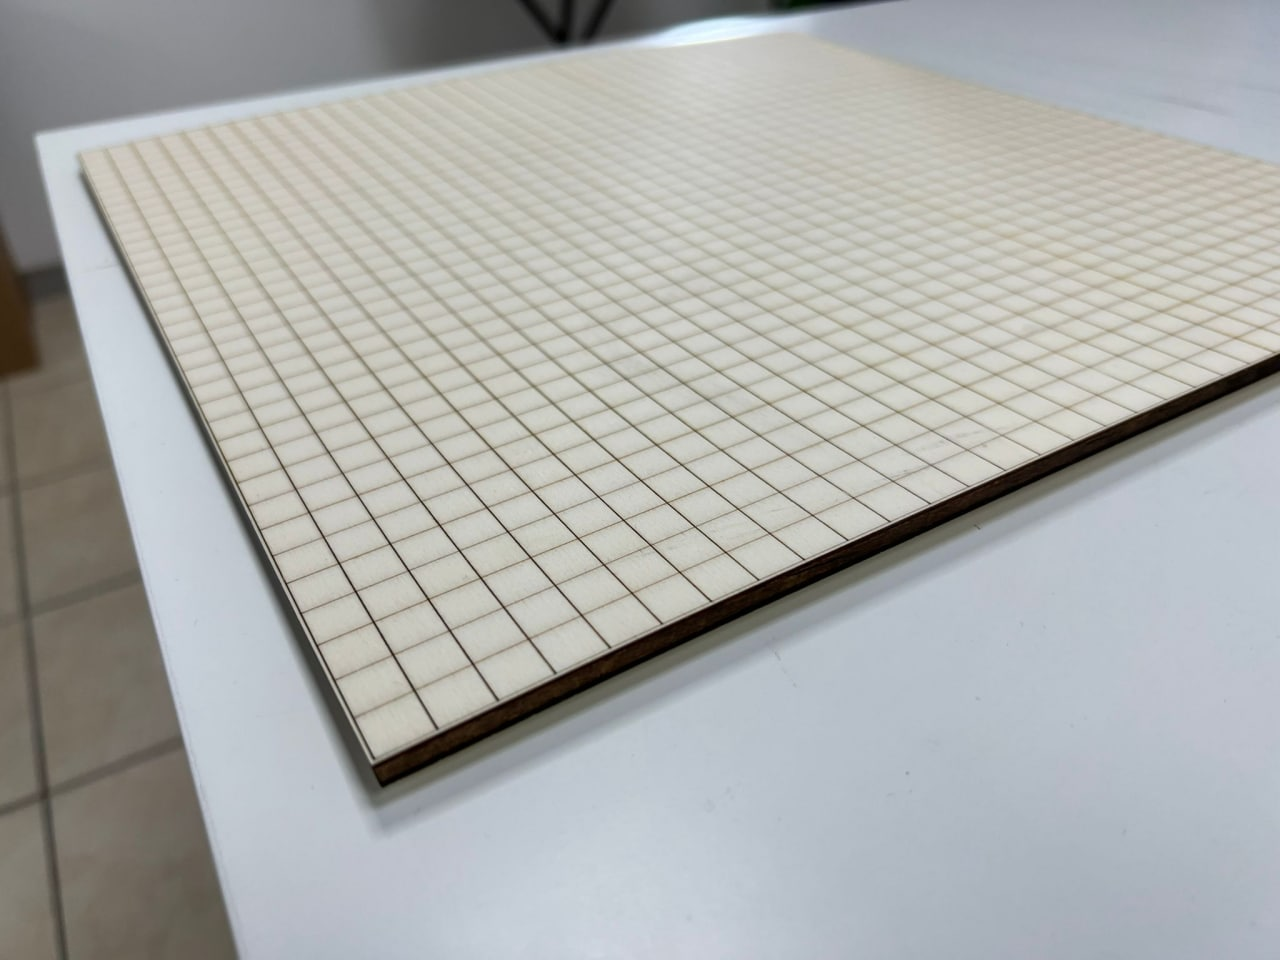grid: (57, 23, 1280, 791)
